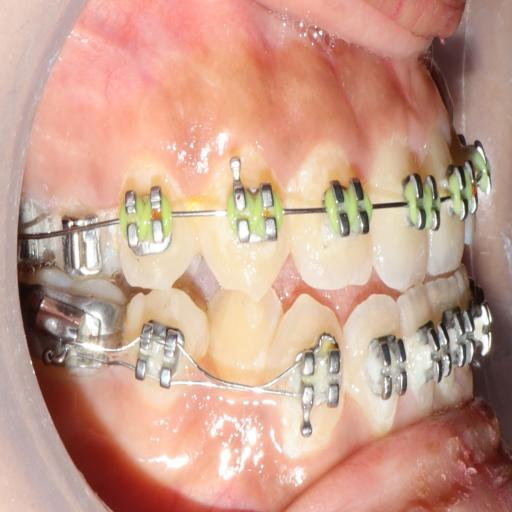correct_brace: (117, 151, 190, 289), (225, 175, 282, 246), (320, 169, 369, 245), (364, 327, 406, 410), (292, 342, 342, 411), (402, 170, 443, 234)
incorrect_brace: (291, 149, 370, 288), (347, 298, 406, 426), (120, 182, 175, 263)
